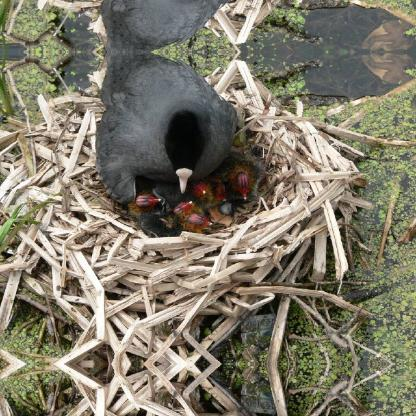Bird: (95, 52, 238, 236), (94, 0, 238, 53), (219, 148, 266, 204)
